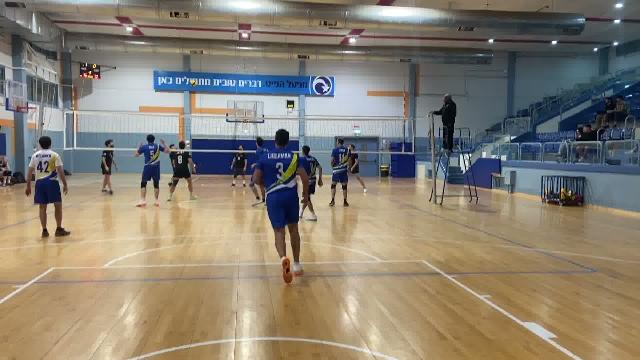ball: (189, 77, 197, 89)
